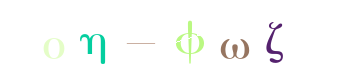2: (129, 0, 209, 80)
F: (150, 0, 230, 80)
H: (94, 0, 174, 80)
O: (55, 0, 135, 80)
V: (201, 0, 281, 80)
Z: (233, 0, 313, 80)
